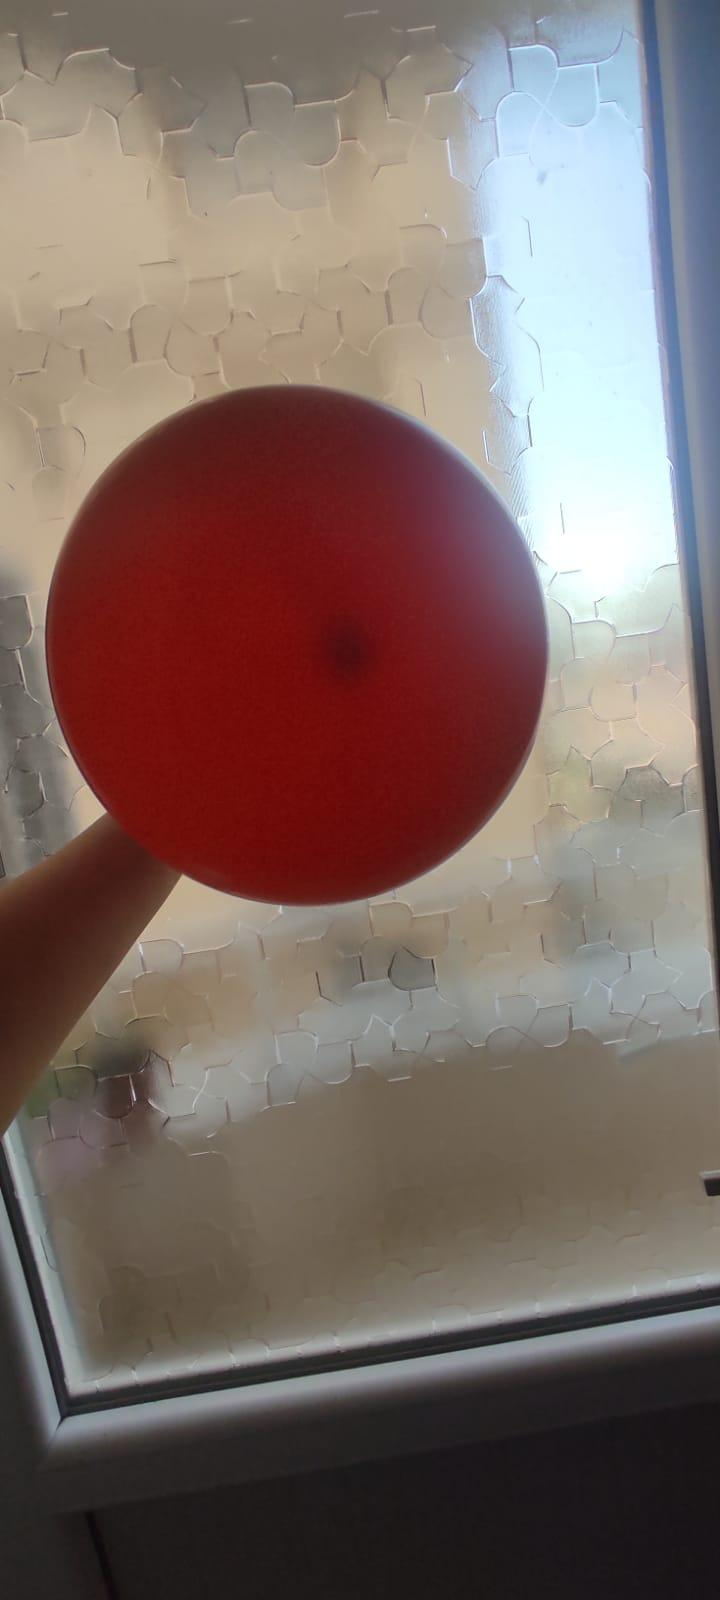red: (44, 378, 560, 908)
